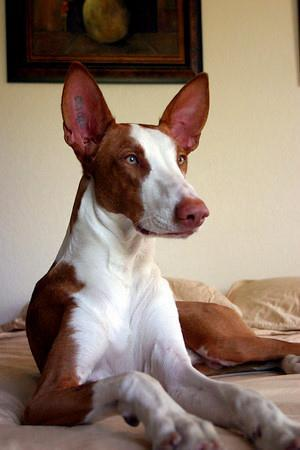Ibizan_hound: (15, 57, 298, 448)
